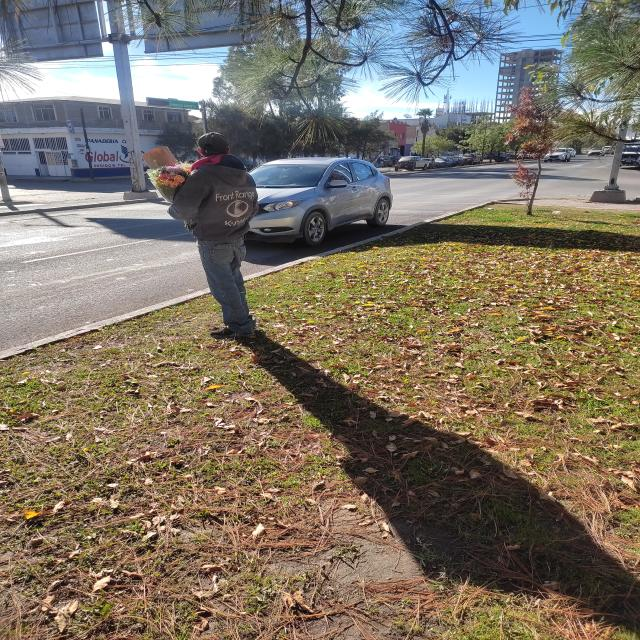3: (134, 126, 296, 354)
Auto: (228, 142, 407, 241), (532, 141, 586, 170), (607, 138, 640, 170)
